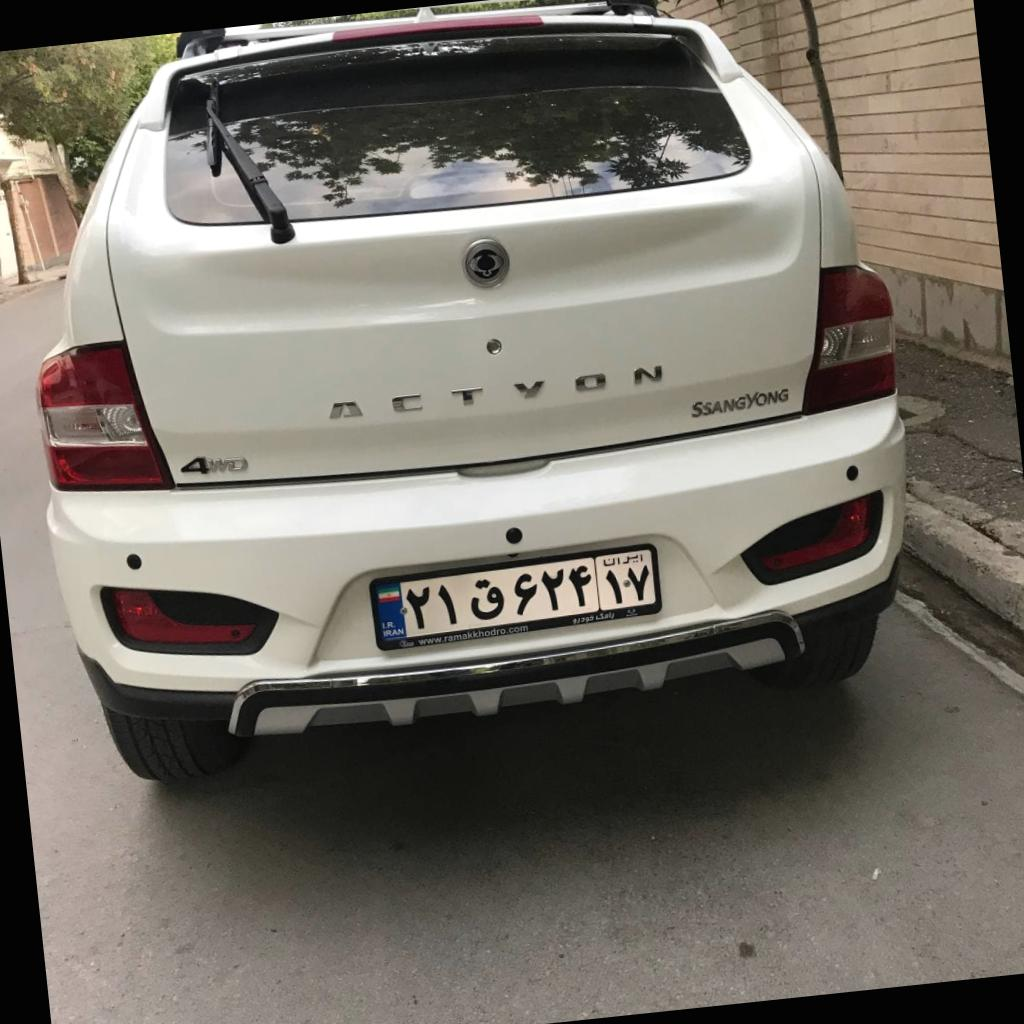Plates: (373, 549, 656, 641)
